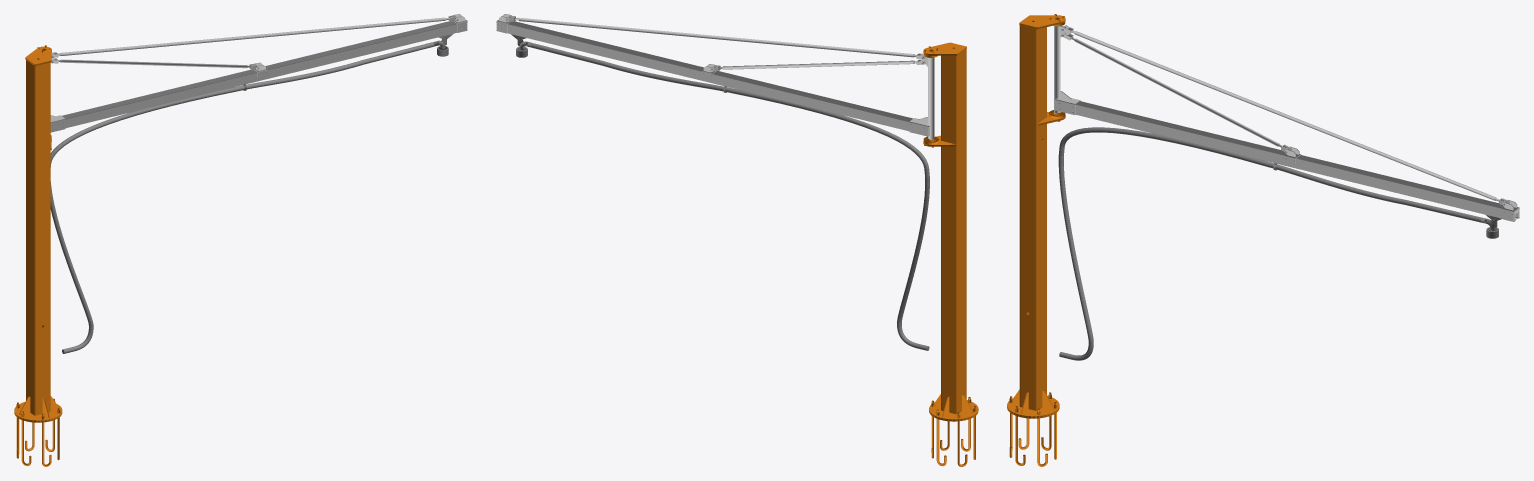
File: aardwolf_all_part_Over Braced Jib Crane - 5m - 250kg@p1_-100_-166_0@p2_4966_-166_3067.fbx
The picture shows the model from 3 angles, left to right: view 1: azimuth 30°, elevation 25°; view 2: azimuth 150°, elevation 25°; view 3: azimuth 330°, elevation 25°; orthographic projection. The views are drawn at different scales.
Visible parts, largest first — view 1: yellow, metal, aardwolf_all_part_obj133; view 2: yellow, metal, aardwolf_all_part_obj133; view 3: yellow, metal, aardwolf_all_part_obj133.
Part boxes in pixels (x1,y1,x2,y2): yellow: (14, 45, 62, 466); metal: (50, 14, 467, 132); aardwolf_all_part_obj133: (50, 42, 434, 353); yellow: (923, 42, 978, 466); metal: (496, 14, 934, 139); aardwolf_all_part_obj133: (530, 43, 929, 350); yellow: (1007, 14, 1065, 466); metal: (1054, 25, 1519, 221); aardwolf_all_part_obj133: (1058, 127, 1481, 360).
Bounding box in the file's own units: 5457 × 4591 × 500.
